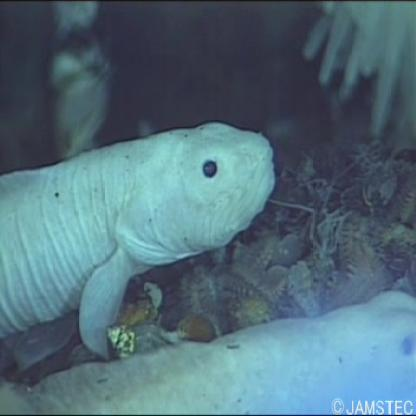Bio: (1, 115, 279, 360)
